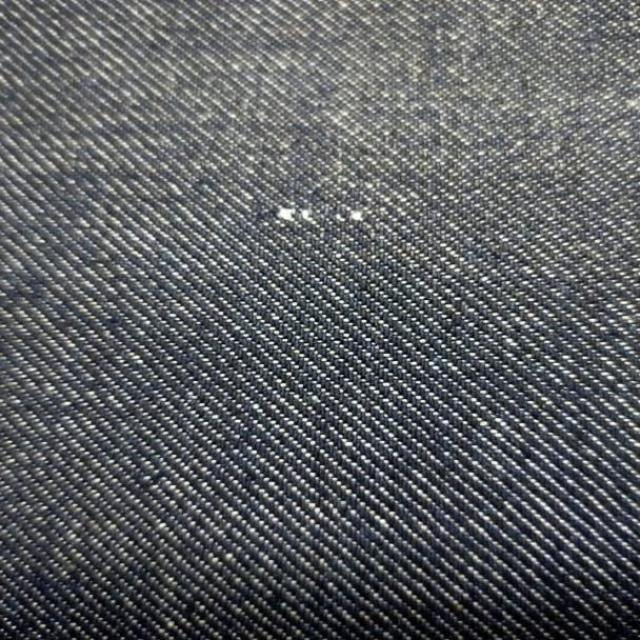Knot: (276, 206, 318, 223)
